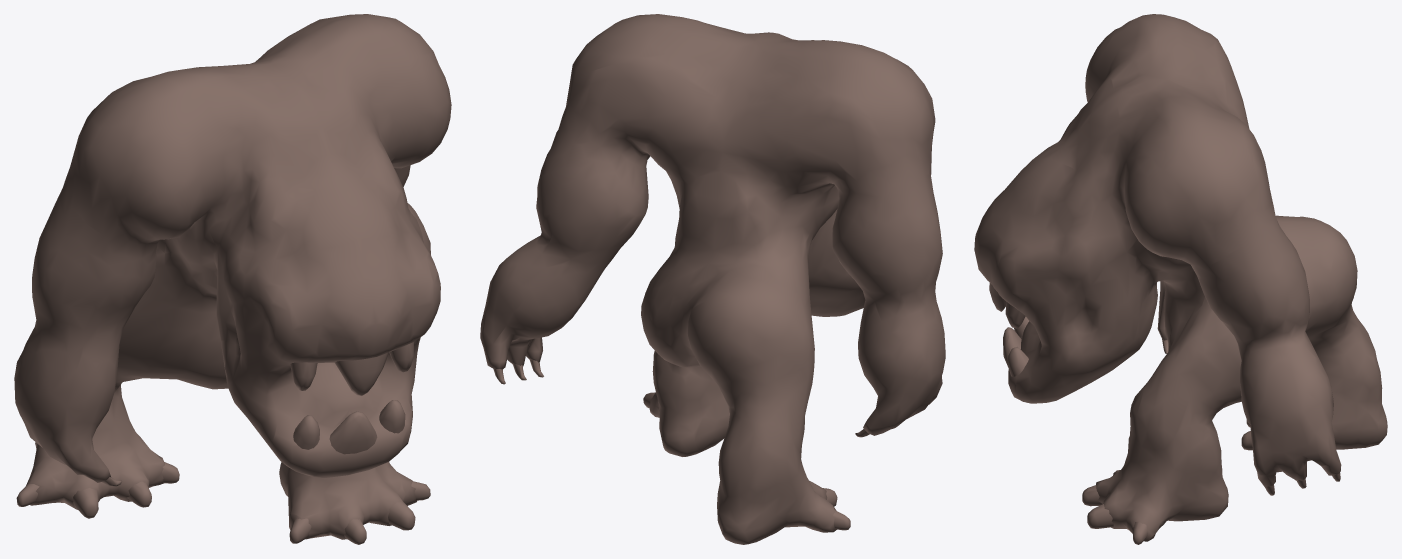
Rendered from glutton.glb.
3 views of the same model, side by side, from view 1: azimuth 30°, elevation 25°; view 2: azimuth 150°, elevation 25°; view 3: azimuth 270°, elevation 25° (orthographic). The views are drawn at different scales.
Parts seen in each view (by area): view 1: glutton; view 2: glutton; view 3: glutton.
Boxes of the visible parts, x1=… form: glutton: x1=14, y1=14, x2=451, y2=544; glutton: x1=480, y1=14, x2=945, y2=544; glutton: x1=974, y1=14, x2=1387, y2=544.
Size of the model in its own units: 0.9871 by 1 by 0.8818.
1 material, 1 textured.
